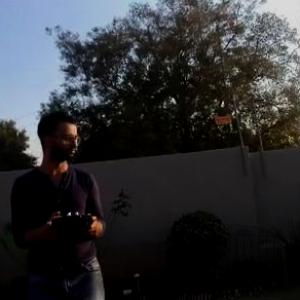follow: (6, 101, 115, 299)
